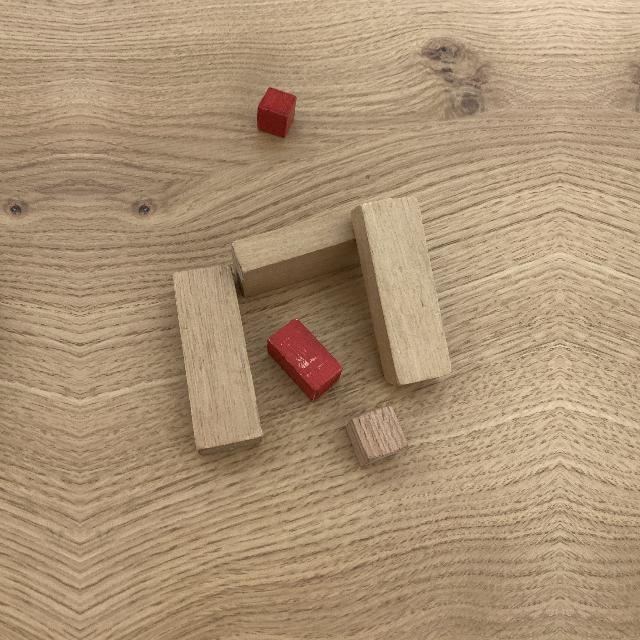cube: (346, 405, 409, 465)
jenga: (349, 196, 454, 387), (173, 264, 264, 457), (231, 209, 361, 299)
red block: (267, 316, 342, 403)
red cube: (257, 87, 297, 137)
